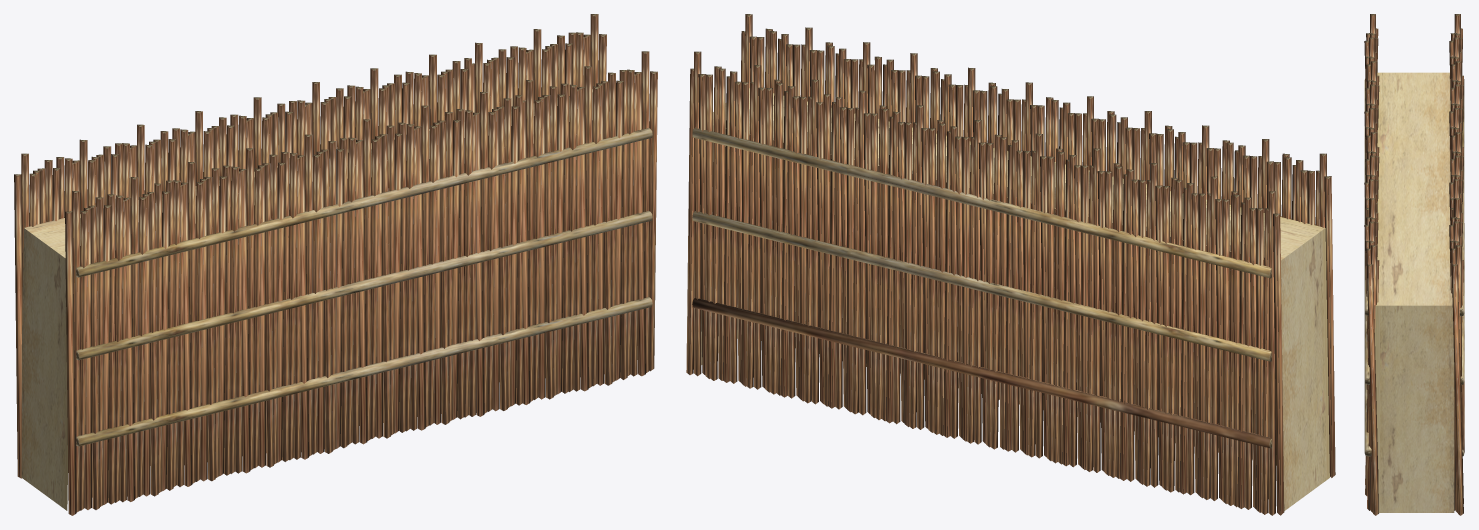
The model's file is wall_long.dae.
The picture shows the model from 3 angles, left to right: view 1: azimuth 30°, elevation 25°; view 2: azimuth 150°, elevation 25°; view 3: azimuth 270°, elevation 25°; orthographic projection. The views are drawn at different scales.
Visible parts, largest first — view 1: wall_long; view 2: wall_long; view 3: wall_long.
Boxes of the visible parts, left/top/right/bottom form: wall_long: left=14, top=14, right=657, bottom=515; wall_long: left=686, top=14, right=1335, bottom=515; wall_long: left=1364, top=14, right=1464, bottom=515.
Size of the model in its own units: 24.71 by 4.38 by 12.85.
